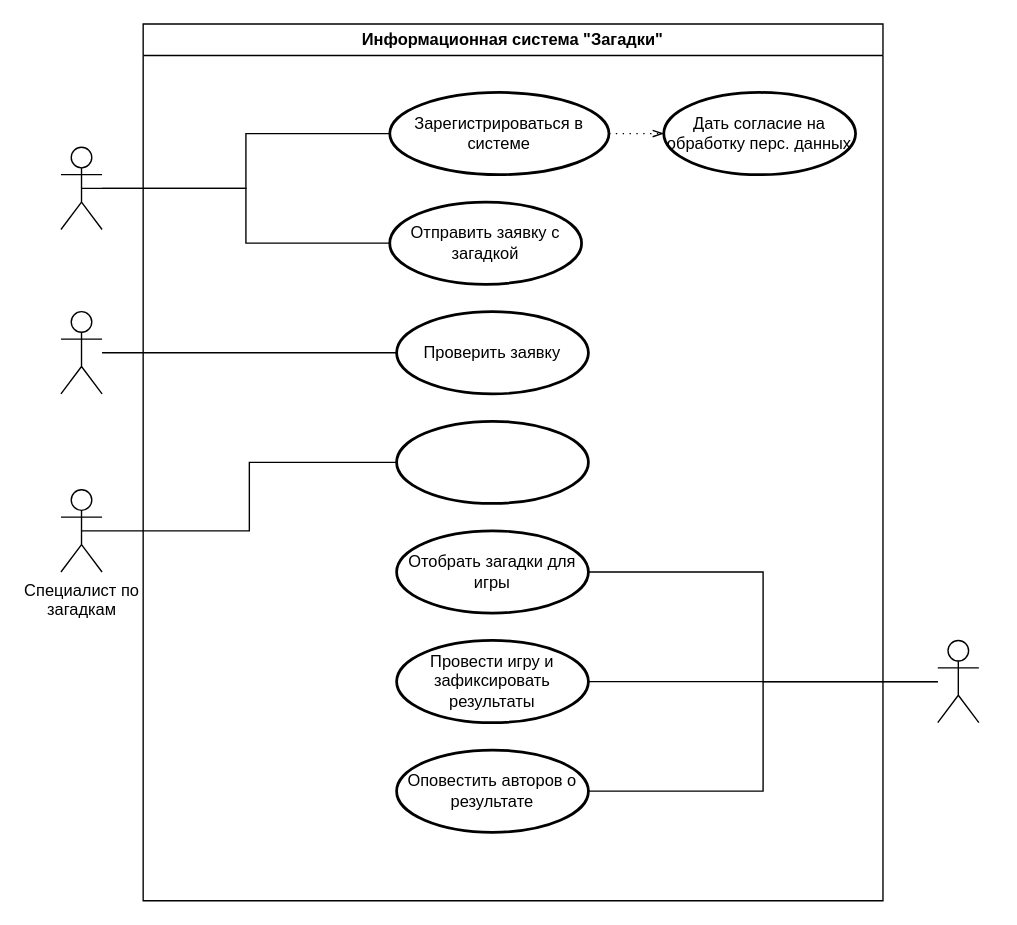
Image size: 1017x925. Some labels were removed from this diagram. The centre of each missing label's shape, as x and y in pixels:
"Ведущий" belongs at [957,681].
"Обработать и классифицировать загадку" belongs at [492,461].
"Оператор" belongs at [81,352].
"Телезритель" belongs at [81,187].
